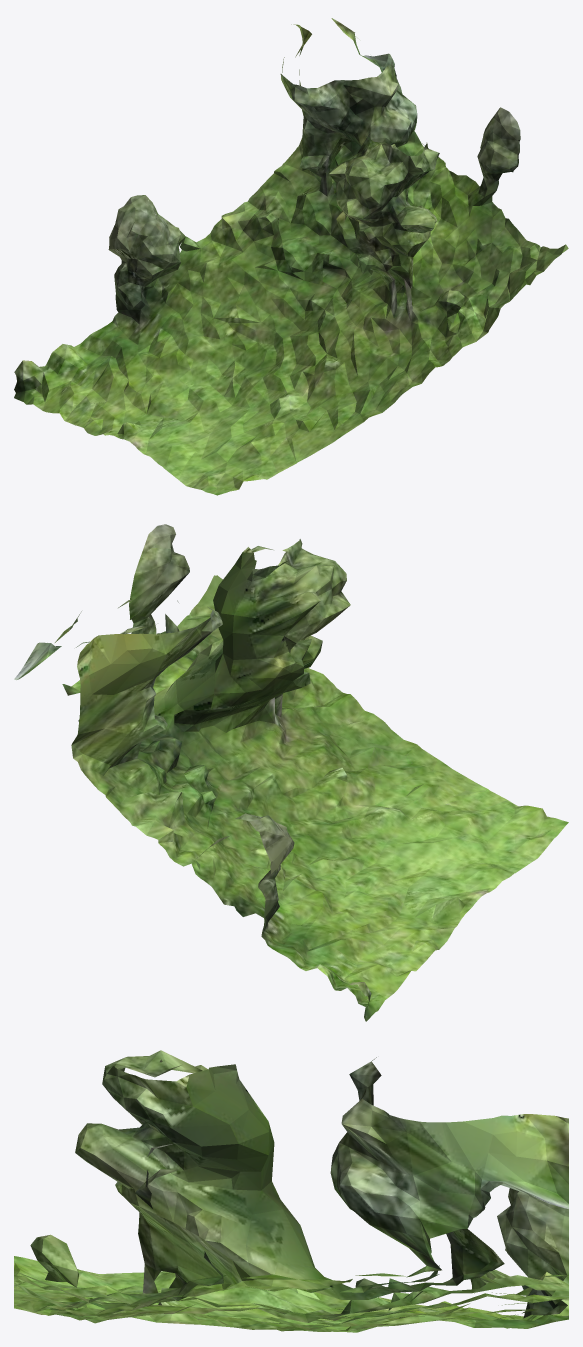
3 renders of one model, top to bottom at view 1: azimuth 30°, elevation 25°; view 2: azimuth 150°, elevation 25°; view 3: azimuth 270°, elevation 25°, orthographic. The views are drawn at different scales.
Size of the model in its own units: 26.11 by 21.73 by 26.11.
5 materials, 5 textured.
